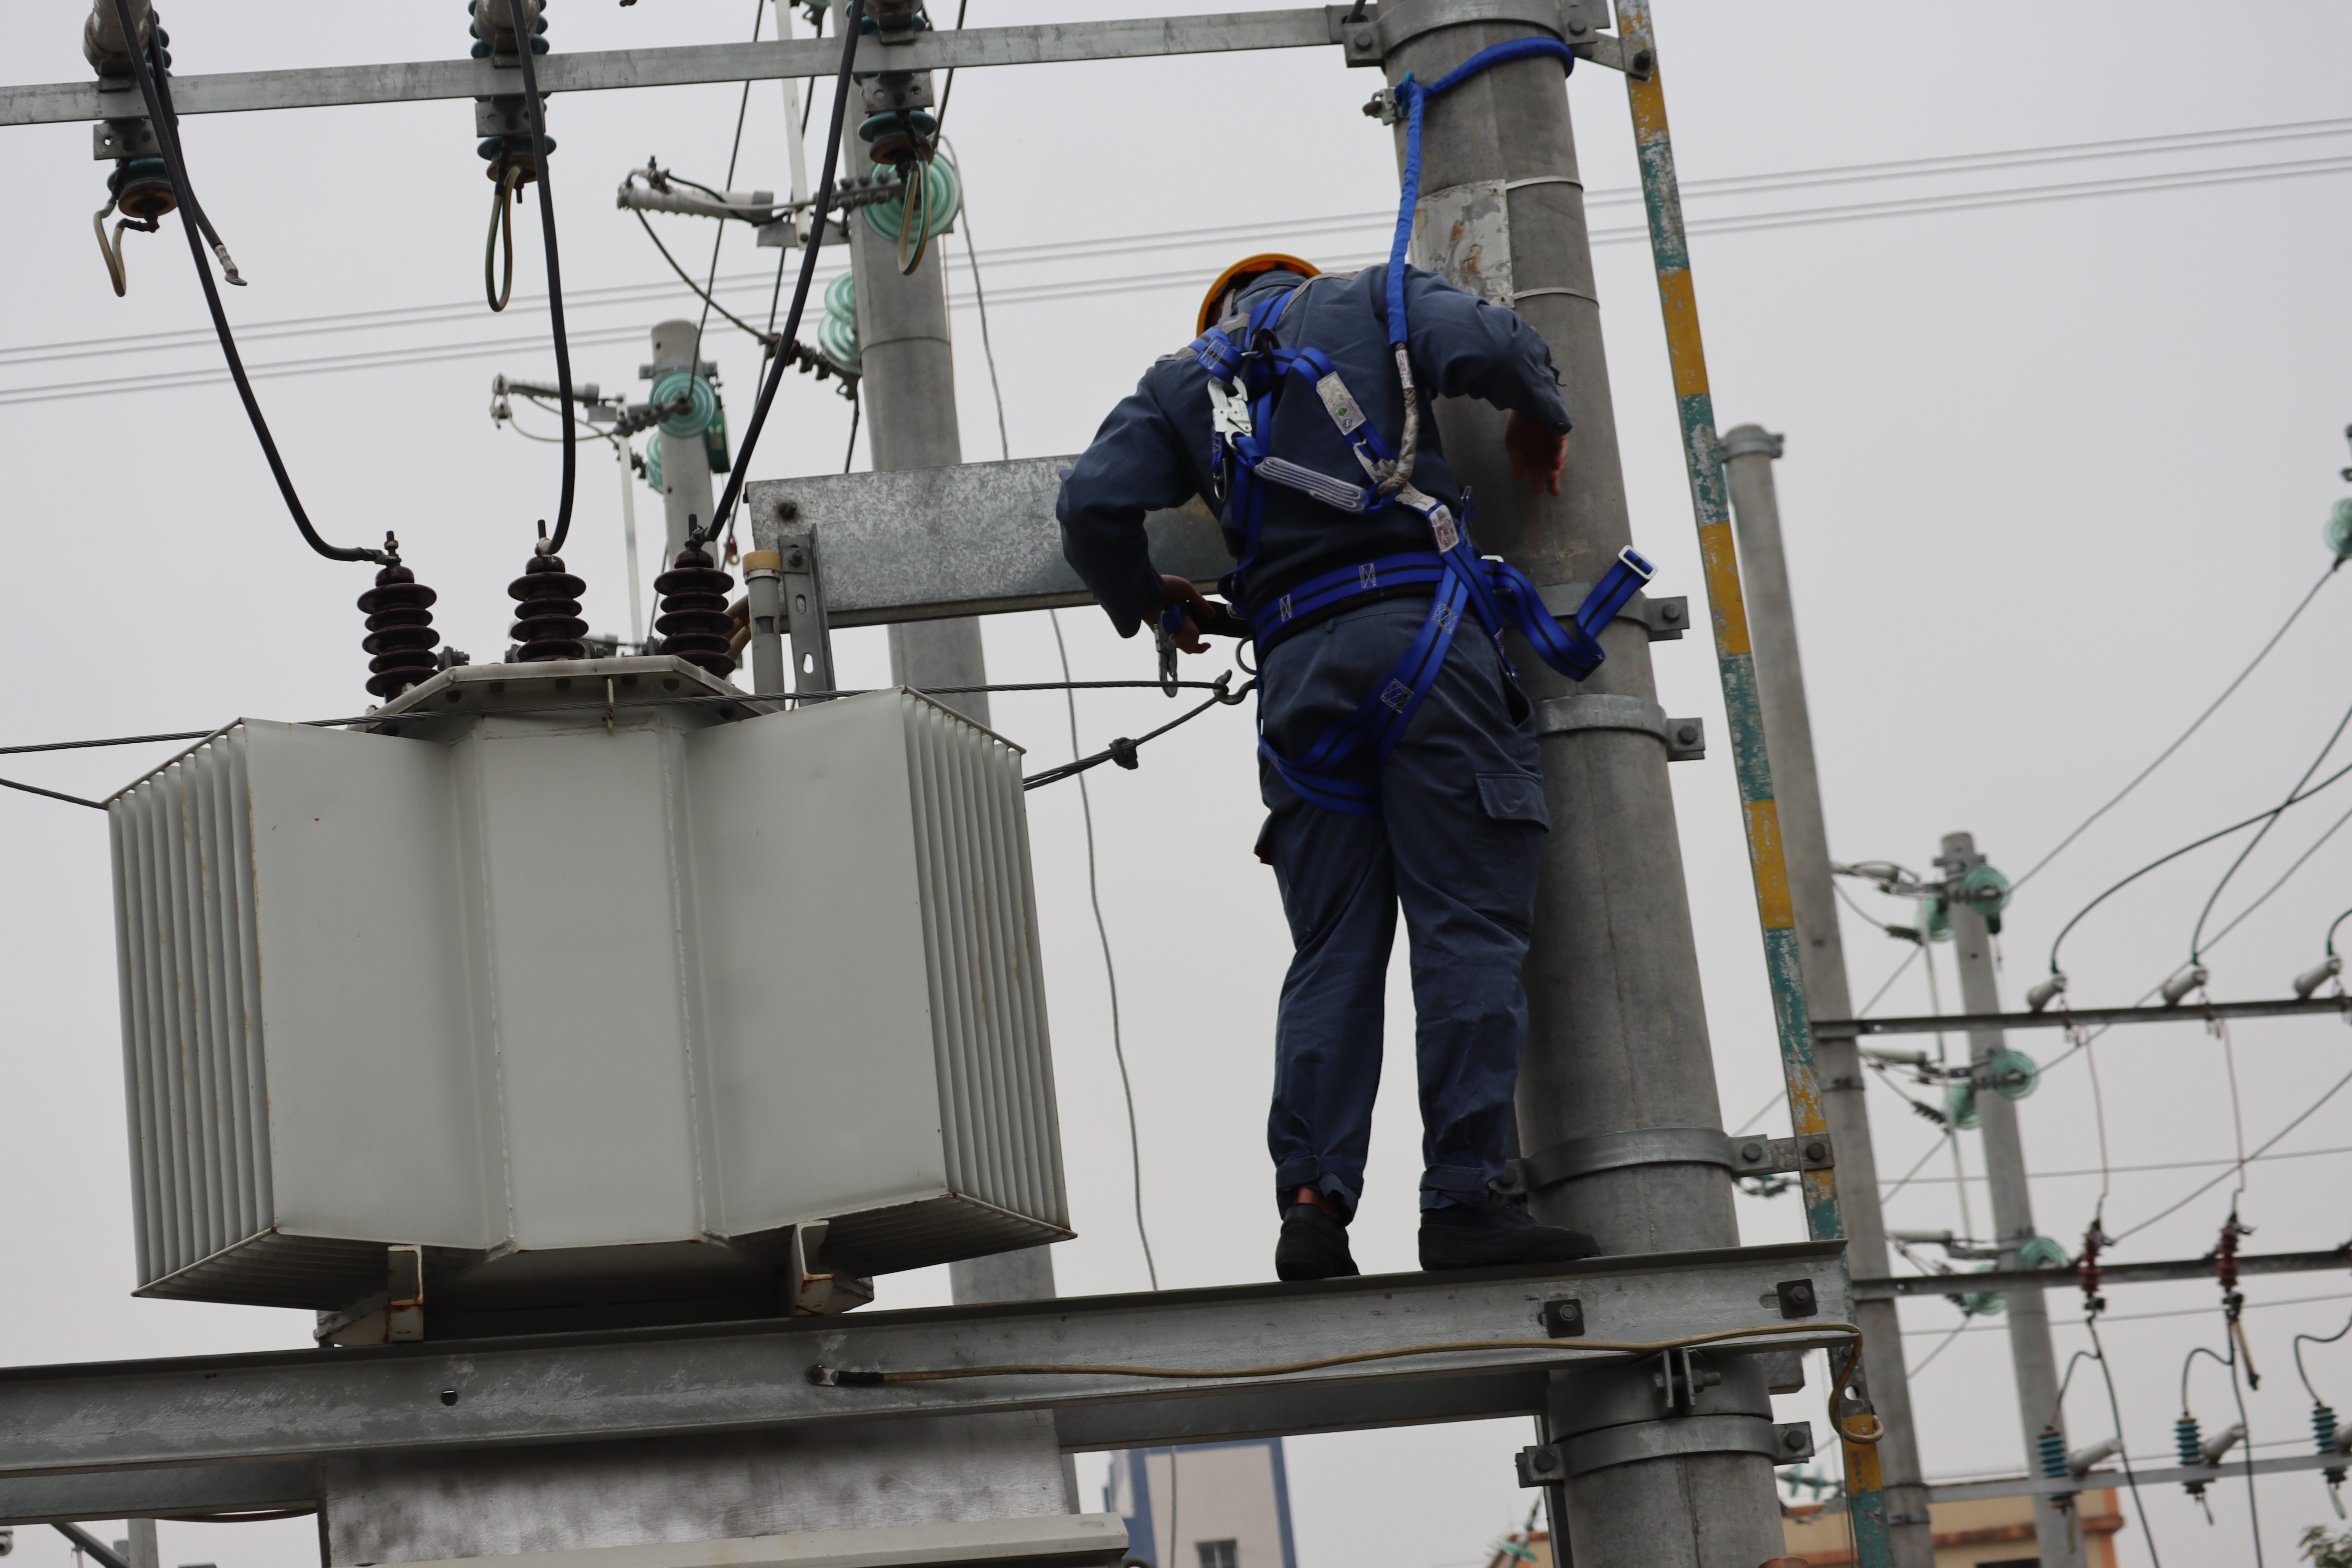downsuit: (1241, 626, 1565, 1197)
upsuit: (1059, 269, 1570, 567)
